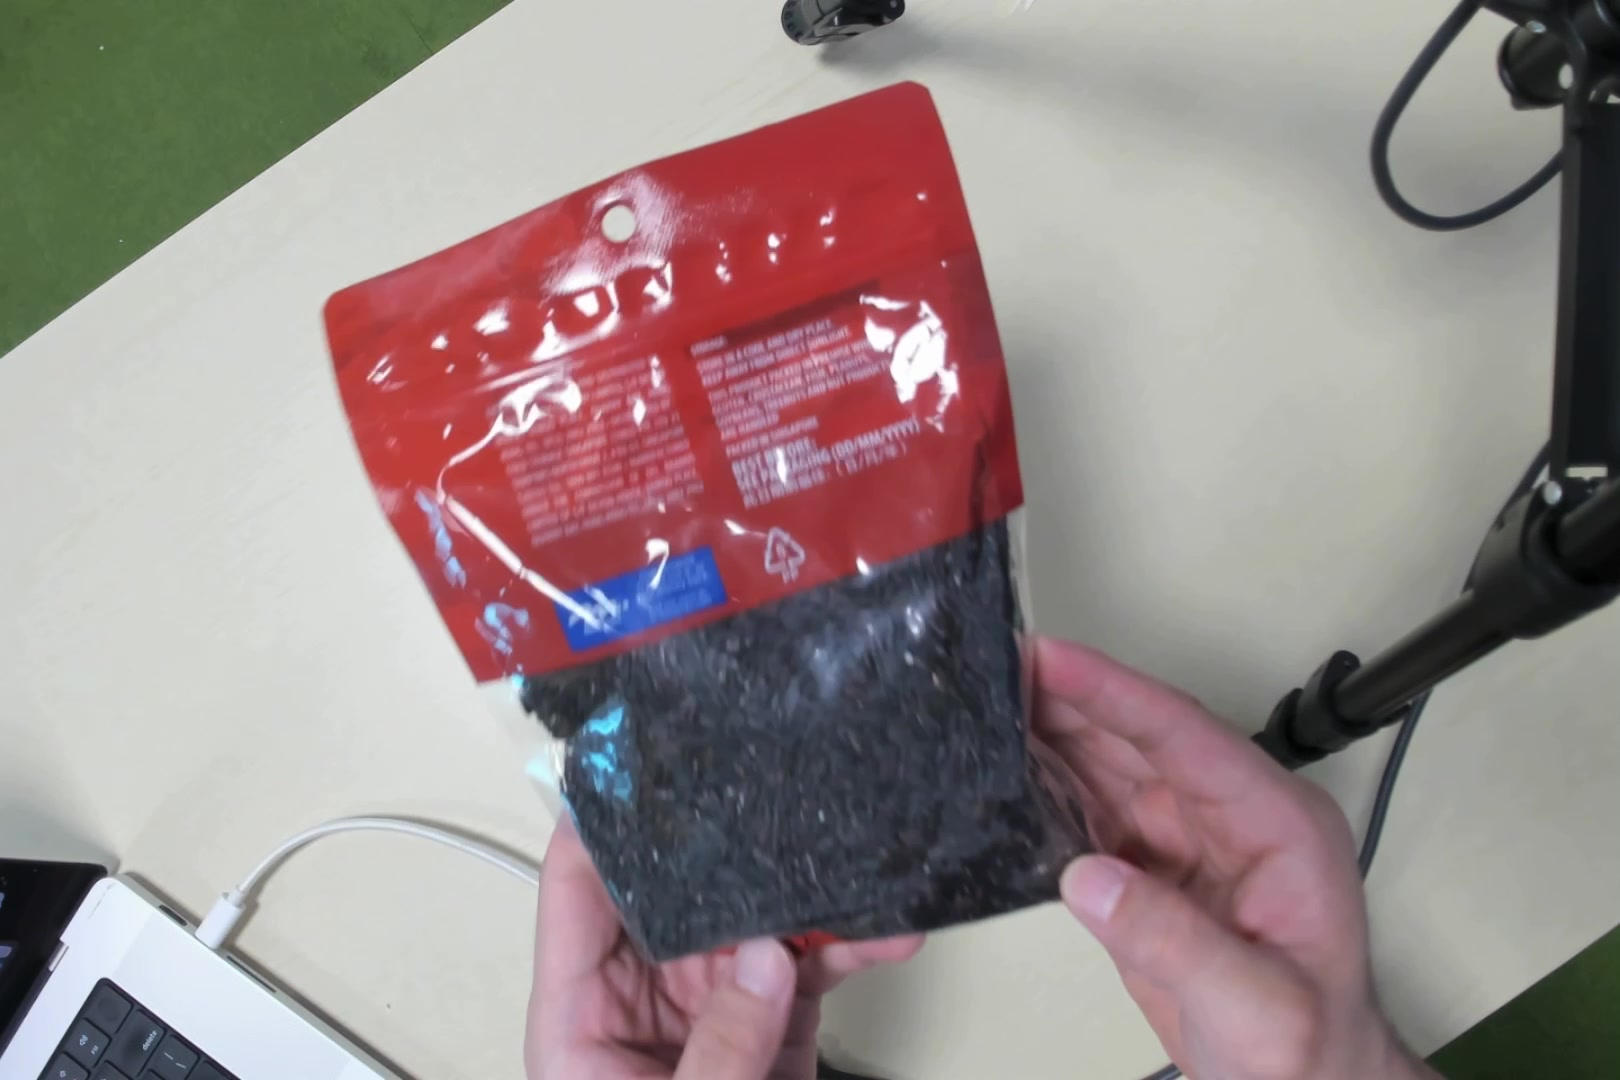OtherDriedFood_100-199g_NonHalal_NonHealthy: (460, 215, 1090, 976)
